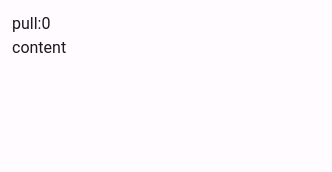
usePullToRefresh › reports readiness before release, so the label can say so
The width and height of the screenshot is (332, 172).
Later steps or results of the test are not shown.
Press the mouse on the text with test id "scroller" at (39, 48), box [12,38,66,57]
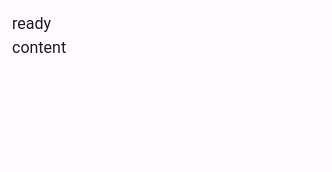
Result: the text with test id "state" reads "ready" at [12,14,51,33]
